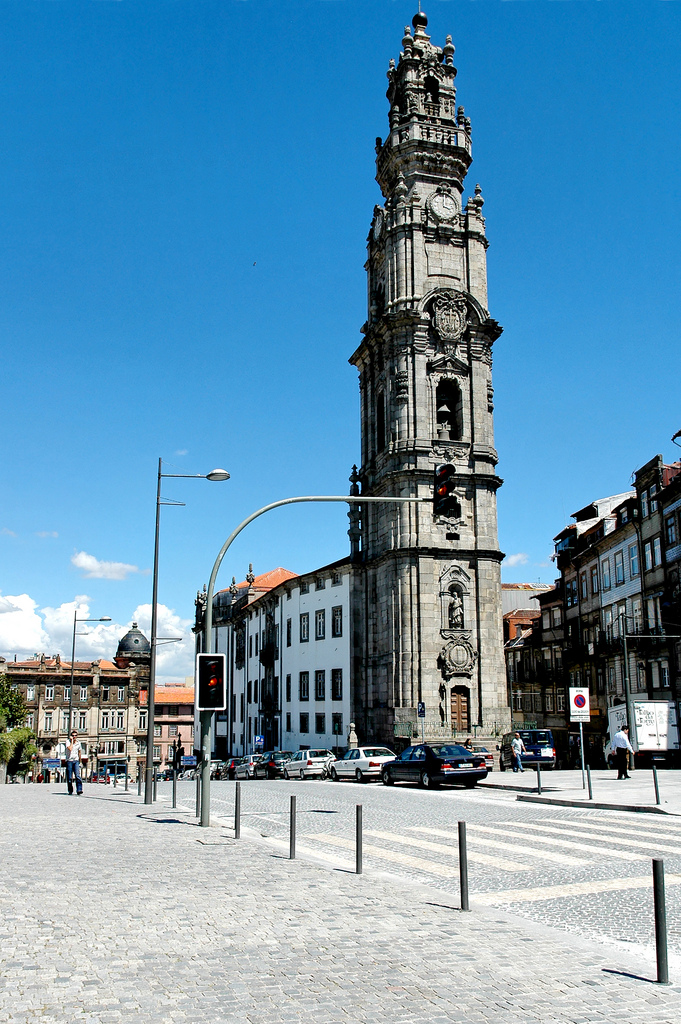clerigos: (347, 0, 515, 760)
